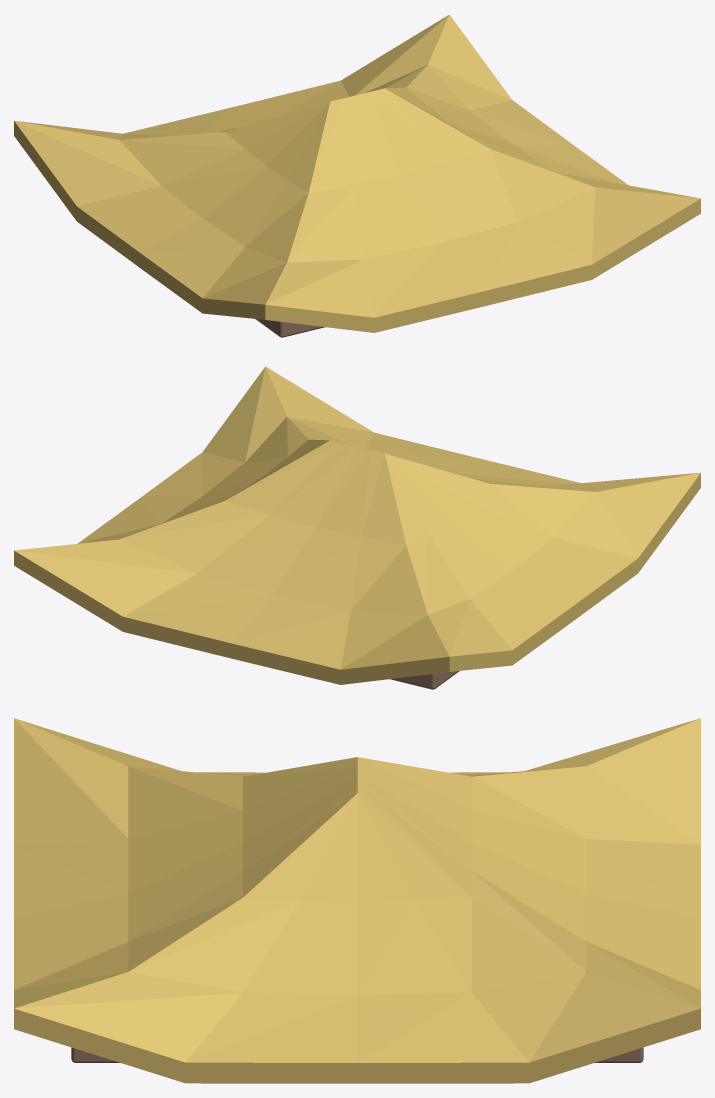
Rendered from imperial-china-palace-and-garden-roof-cassette-hip-2c2e4e52__36177.glb.
3 views of the same model, one above another, from view 1: azimuth 30°, elevation 25°; view 2: azimuth 150°, elevation 25°; view 3: azimuth 270°, elevation 25° (orthographic). The views are drawn at different scales.
Parts seen in each view (by area): view 1: roof-cassette-hip; view 2: roof-cassette-hip; view 3: roof-cassette-hip.
Part boxes in pixels (x1,y1,x2,y2): roof-cassette-hip: (14, 14, 700, 337); roof-cassette-hip: (14, 366, 700, 689); roof-cassette-hip: (14, 718, 700, 1083).
Size of the model in its own units: 4.8 by 1.3 by 4.8.
